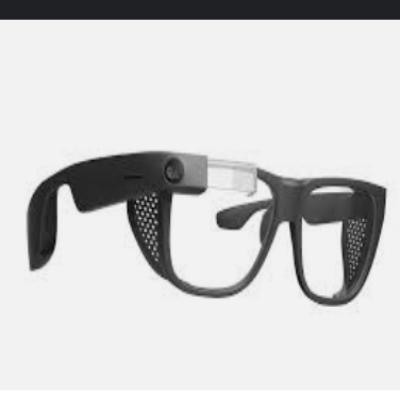glasses: (21, 146, 393, 321)
